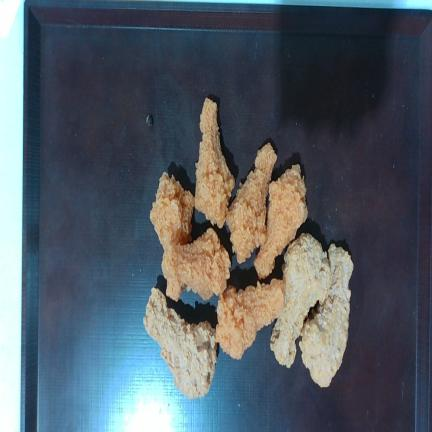chicken: (143, 288, 217, 398), (271, 233, 331, 367), (299, 244, 353, 387), (226, 143, 276, 263), (254, 165, 307, 278), (216, 279, 284, 359), (195, 98, 235, 228), (162, 228, 231, 300)
